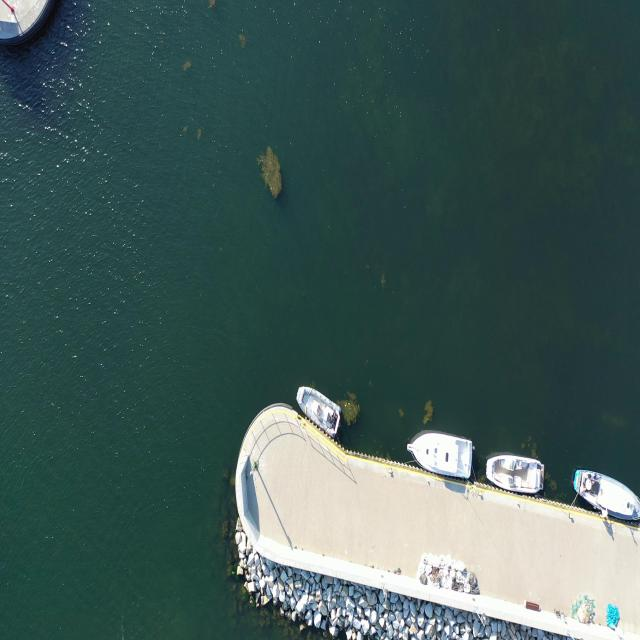boat: (570, 465, 640, 529), (406, 423, 474, 487), (485, 452, 545, 500), (296, 384, 342, 444)
